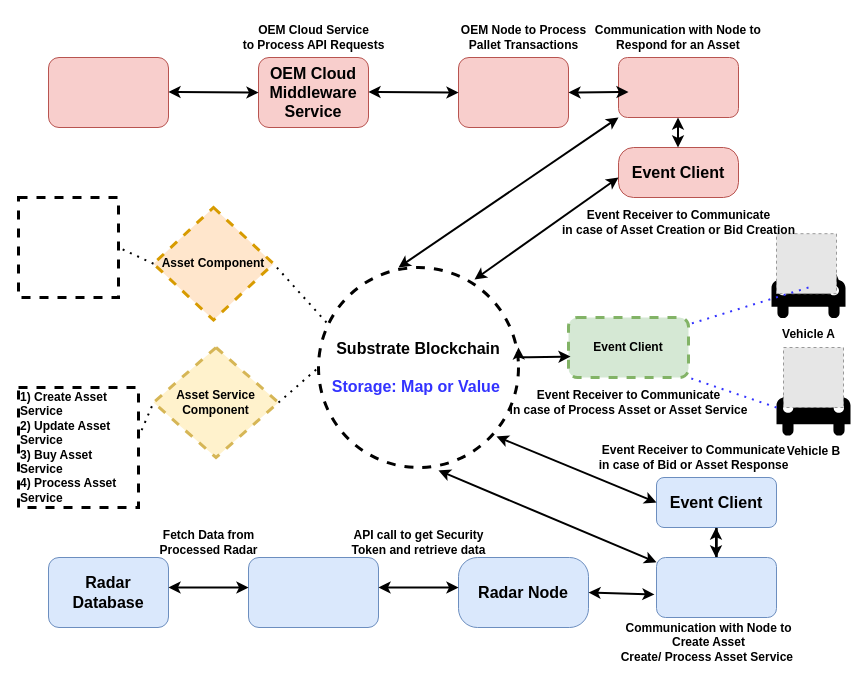
Image size: 868x689. Some labels were removed from this diagram. Grey dashed boxes stand in for pictures. The shapes that lost their labels are listed below. From the top down, each one's centre as x and y in pixels, then its label:
the point at 108,92: OEM Database
the point at 513,92: OEM Node
the point at 678,87: OEM Transaction Client
the point at 68,247: 1) Create Asset 2) Update Asset 3) Buy Asset 4) Process Asset
the point at 313,592: Radar Cloud Middleware Service
the point at 716,587: Radar Transaction Client
